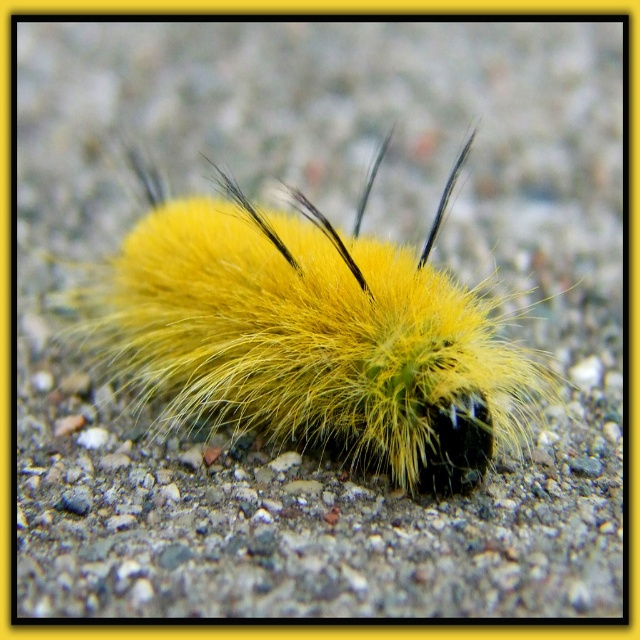Caterpillar: (29, 119, 593, 500)
